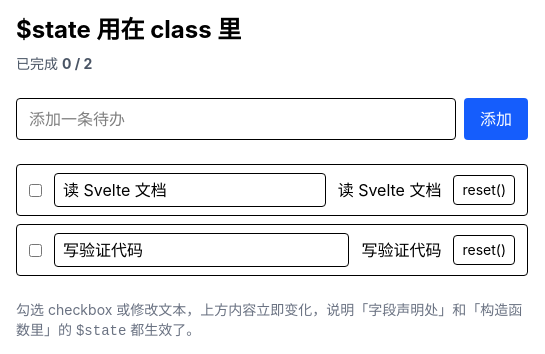
Scenario: /state-class 页面 › 勾选 checkbox 后计数实时更新（class 字段声明处的 $state 生效）
The image size is (545, 354).
Click the checkbox with test id "todo-done-0".
click(36, 190)  # box [29, 184, 42, 196]
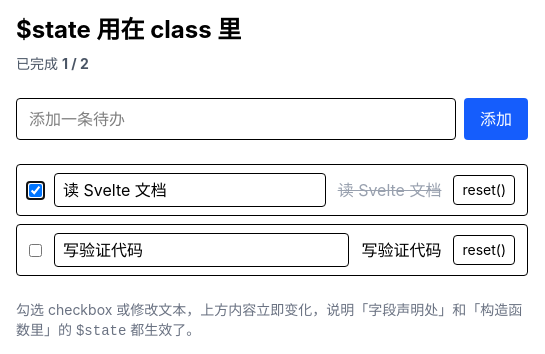
Expected: the text with test id "done-count" reads "1 / 2", [62, 55, 89, 72]
